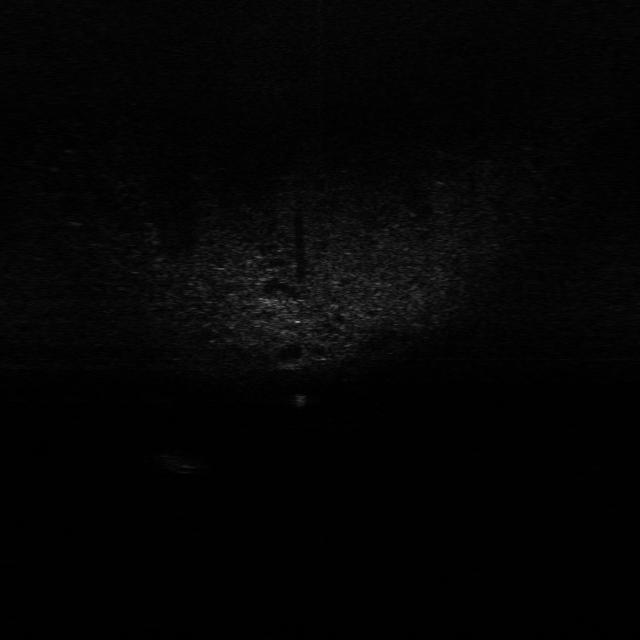circle cage: (172, 443, 213, 482)
cylinder: (150, 442, 210, 476)
